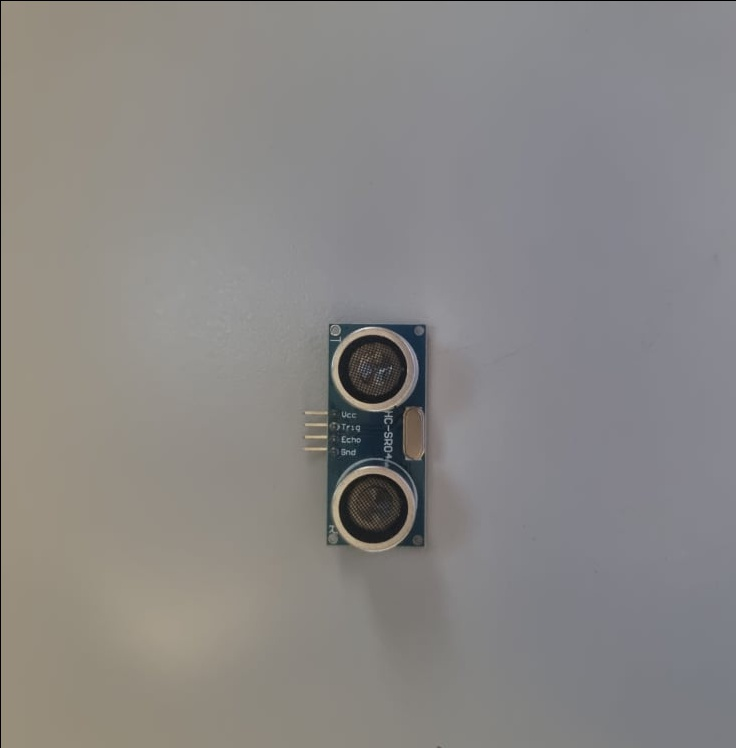SENSOR: (323, 319, 429, 548)
